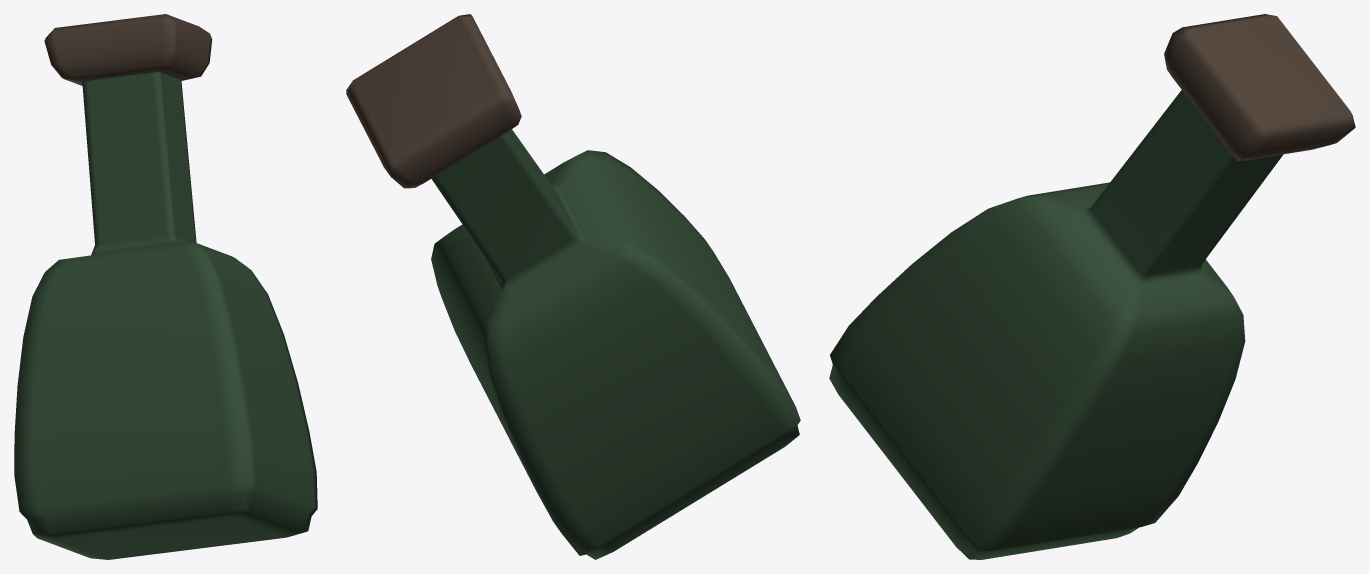
Rendered from smooth_bottle.fbx.
The picture shows the model from 3 angles, left to right: view 1: azimuth 30°, elevation 25°; view 2: azimuth 150°, elevation 25°; view 3: azimuth 270°, elevation 25°; orthographic projection. The views are drawn at different scales.
Parts seen in each view (by area): view 1: pasted__pCube18; view 2: pasted__pCube18; view 3: pasted__pCube18.
Part boxes in pixels (box(x1,y1,x2,y2)): pasted__pCube18: box(14, 14, 317, 559); pasted__pCube18: box(346, 14, 800, 559); pasted__pCube18: box(829, 14, 1355, 559).
Bounding box in the file's own units: 7.14 × 11.12 × 9.52.
